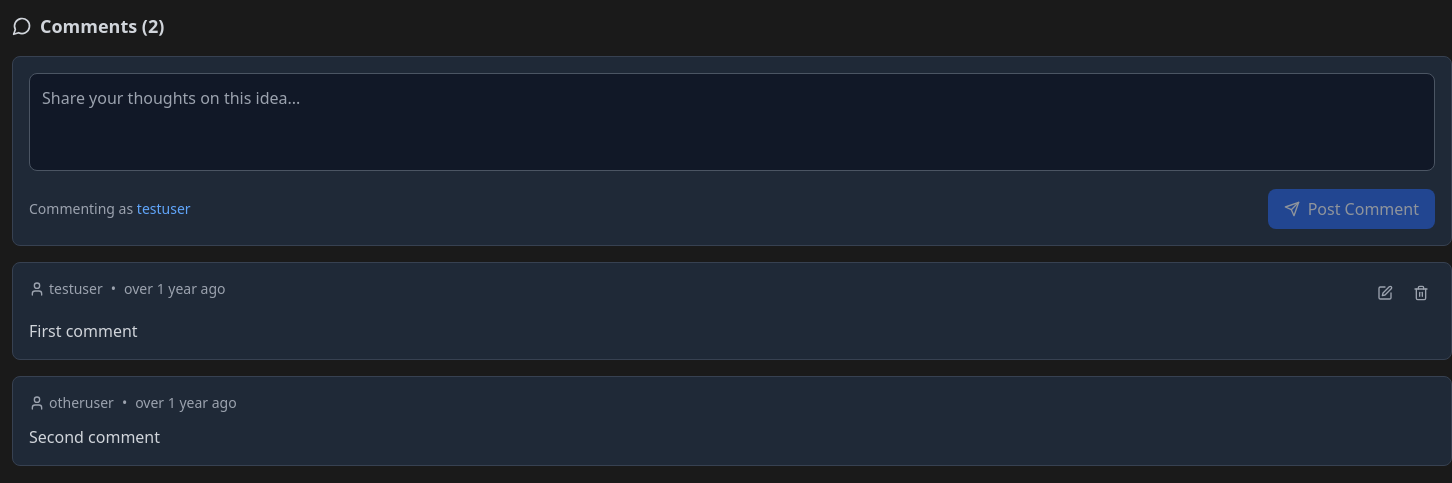
Test case: Comments System Integration Tests › should delete a comment successfully
Expected: the text "First comment" is shown, [29,320,138,342]
// Click delete button on the first comment (user's own comment)
Step 1. Click the button titled "Delete comment" → (1421, 293), box [1407,279,1435,307]
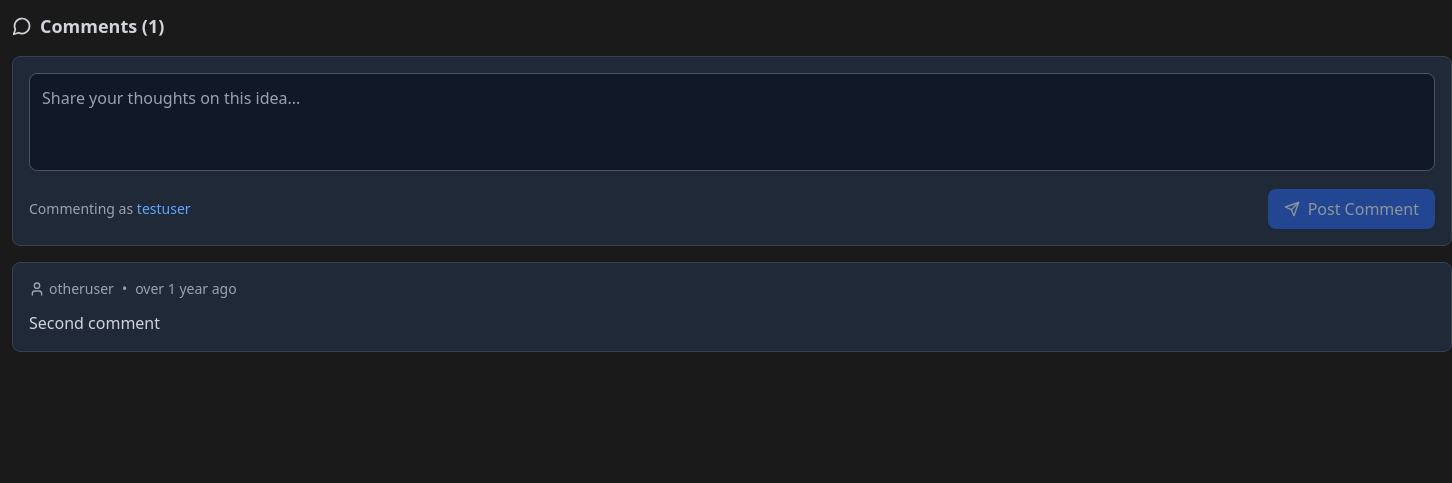
Expected: the text "First comment" is gone
